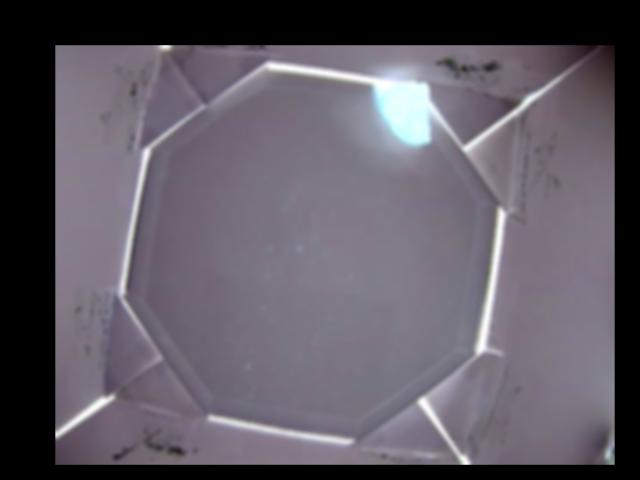Brisk: (372, 80, 434, 144)
